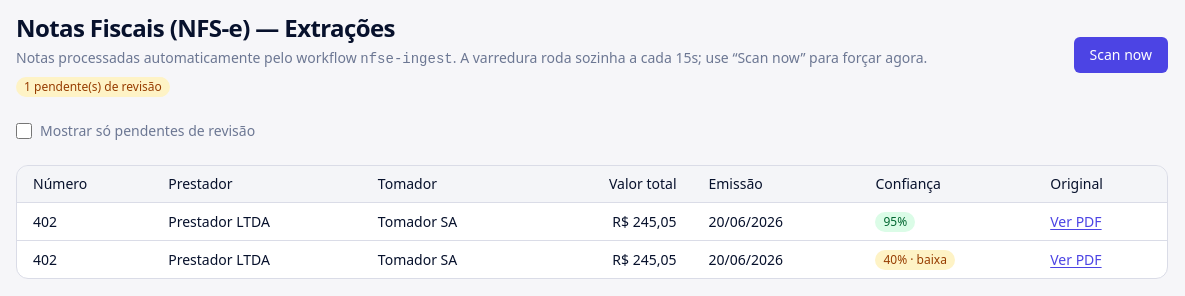
NfseExtractionsPage — review filter › filters to only low-confidence rows when 'review only' is checked
The image size is (1185, 296).
Expected: the number of rows with test id "nfse-row" is 2, [17, 202, 1167, 240]; [17, 240, 1167, 278]
Click the checkbox with test id "nfse-review-filter" at (24, 131), box [16, 123, 32, 139]
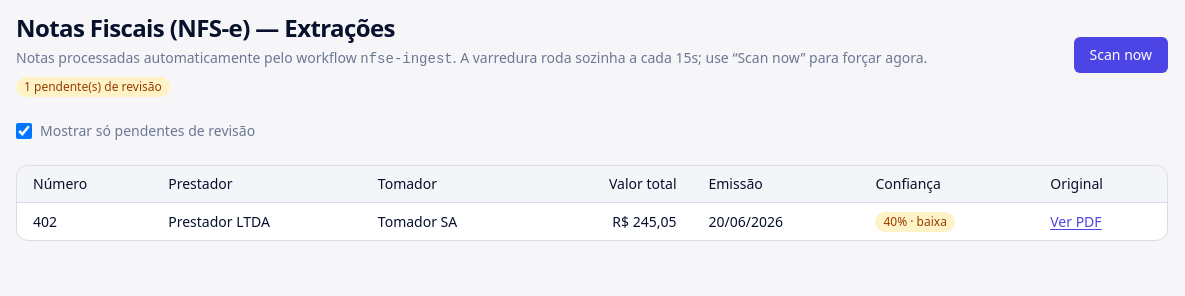
Expected: the text "40% · baixa" is shown, [875, 212, 955, 232]
Expected: the number of rows with test id "nfse-row" is 1, [17, 202, 1167, 240]
